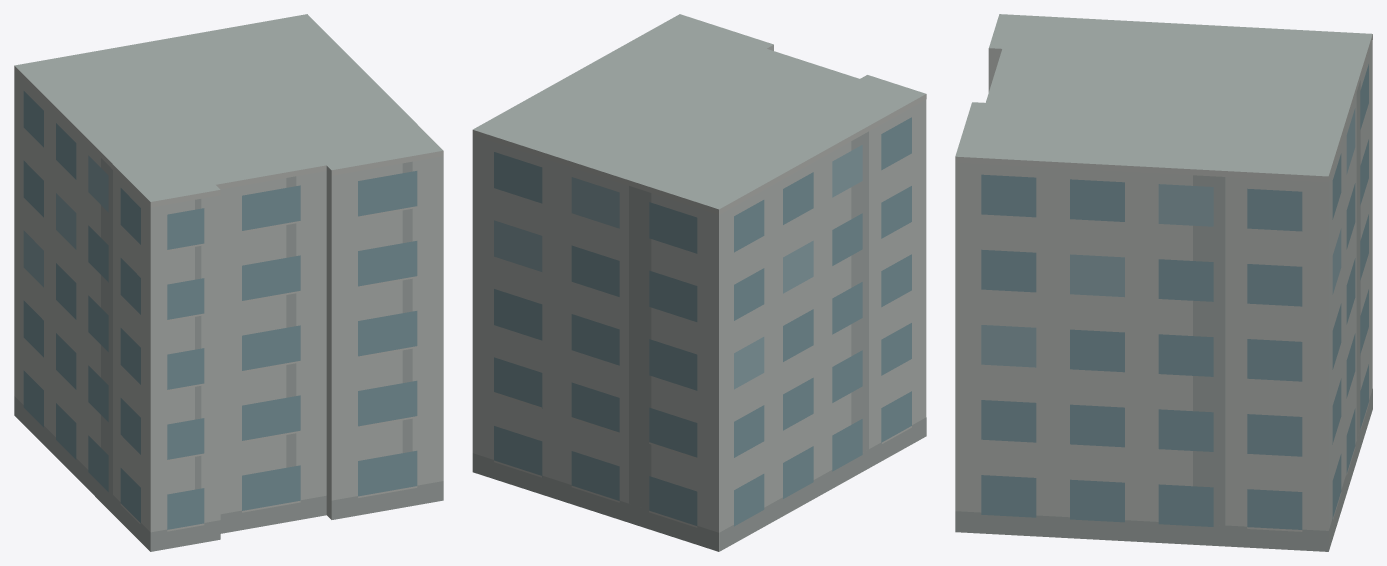
File: survey-upis-32542262.glb
The picture shows the model from 3 angles, left to right: view 1: azimuth 30°, elevation 25°; view 2: azimuth 150°, elevation 25°; view 3: azimuth 270°, elevation 25°; orthographic projection. The views are drawn at different scales.
Visible parts, largest first — view 1: survey-upis-32542262.tmp; view 2: survey-upis-32542262.tmp; view 3: survey-upis-32542262.tmp.
Boxes of the visible parts, box(x1,y1,x2,y2) form: survey-upis-32542262.tmp: box(14, 14, 443, 551); survey-upis-32542262.tmp: box(472, 14, 926, 551); survey-upis-32542262.tmp: box(955, 14, 1372, 551).
Bounding box in the file's own units: 14.16 × 15.25 × 15.38.
